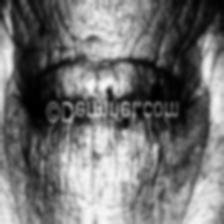Unclassified: (88, 146, 104, 166), (103, 78, 119, 98), (120, 114, 134, 132)
